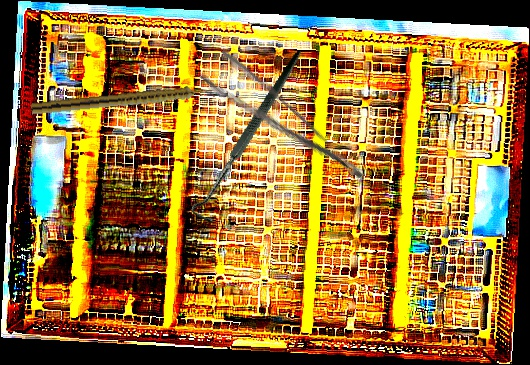Dressing Forceps: (197, 46, 366, 204)
Handpiece: (30, 83, 216, 119)
Hook Surgical: (148, 50, 354, 229)
